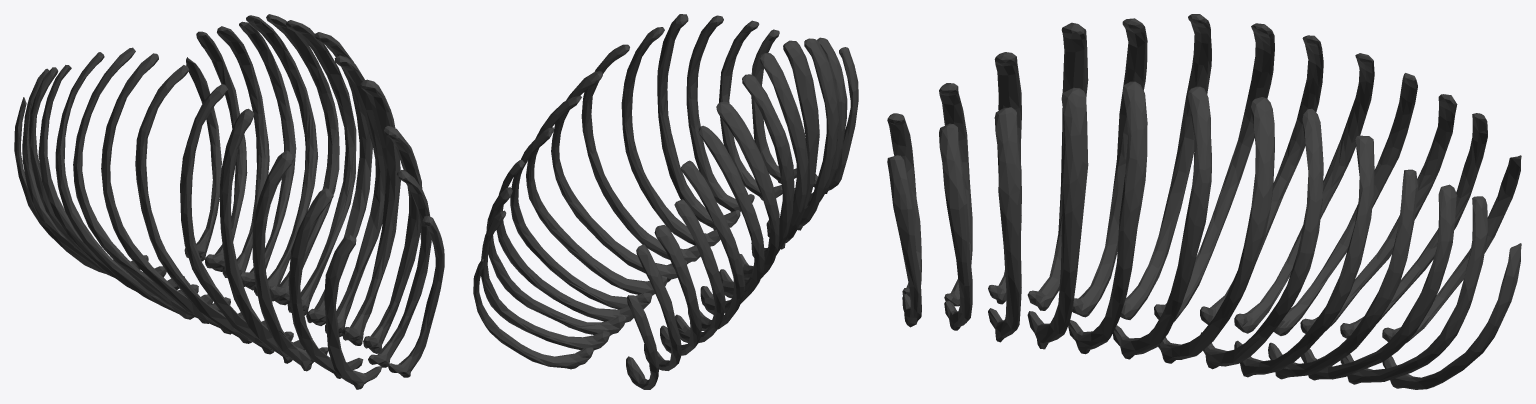
The model's file is b_rib_cage_original.glb.
3 views of the same model, side by side, from view 1: azimuth 30°, elevation 25°; view 2: azimuth 150°, elevation 25°; view 3: azimuth 270°, elevation 25° (orthographic). The views are drawn at different scales.
Parts seen in each view (by area): view 1: b_rib_cage_original; view 2: b_rib_cage_original; view 3: b_rib_cage_original.
Boxes of the visible parts, x1=… form: b_rib_cage_original: x1=14, y1=14, x2=444, y2=389; b_rib_cage_original: x1=473, y1=14, x2=858, y2=389; b_rib_cage_original: x1=887, y1=14, x2=1521, y2=389.
Size of the model in its own units: 0.0493 by 0.052 by 0.0943.
Materials: 1 (1 with a texture image).
